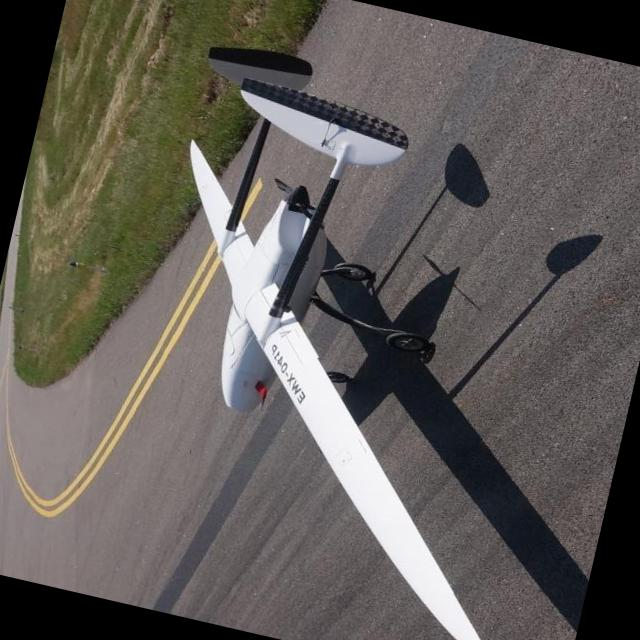UAV: (54, 14, 631, 640)
